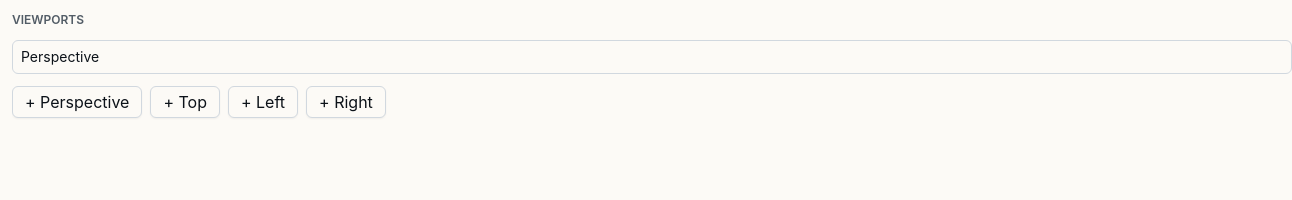
Scenario: SceneViewportManager › remove works with two viewports
Click the button "+ Top" at [185, 102], box top-left (150, 86), bottom-right (220, 118)
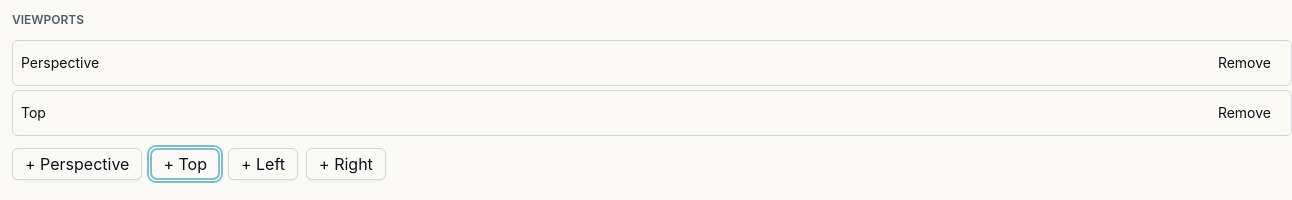
Now the number of buttons "Remove" is 2
Click the 1st button "Remove" at [1244, 63], box top-left (1206, 47), bottom-right (1283, 79)
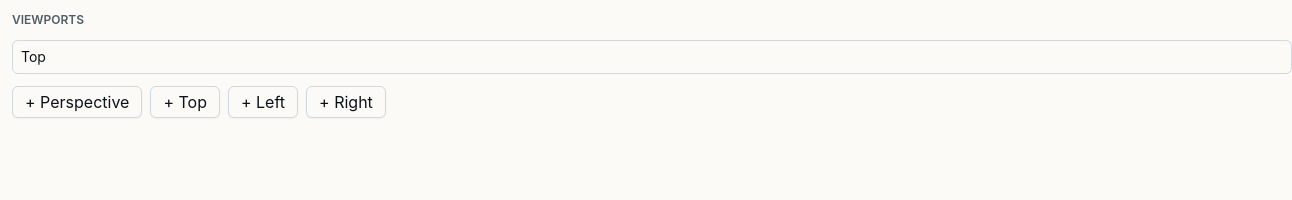
Now no buttons "Remove" are shown
